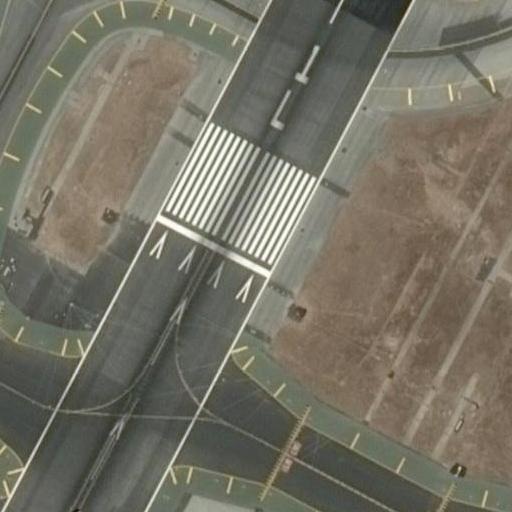Aircraft: (11, 497, 90, 512)
